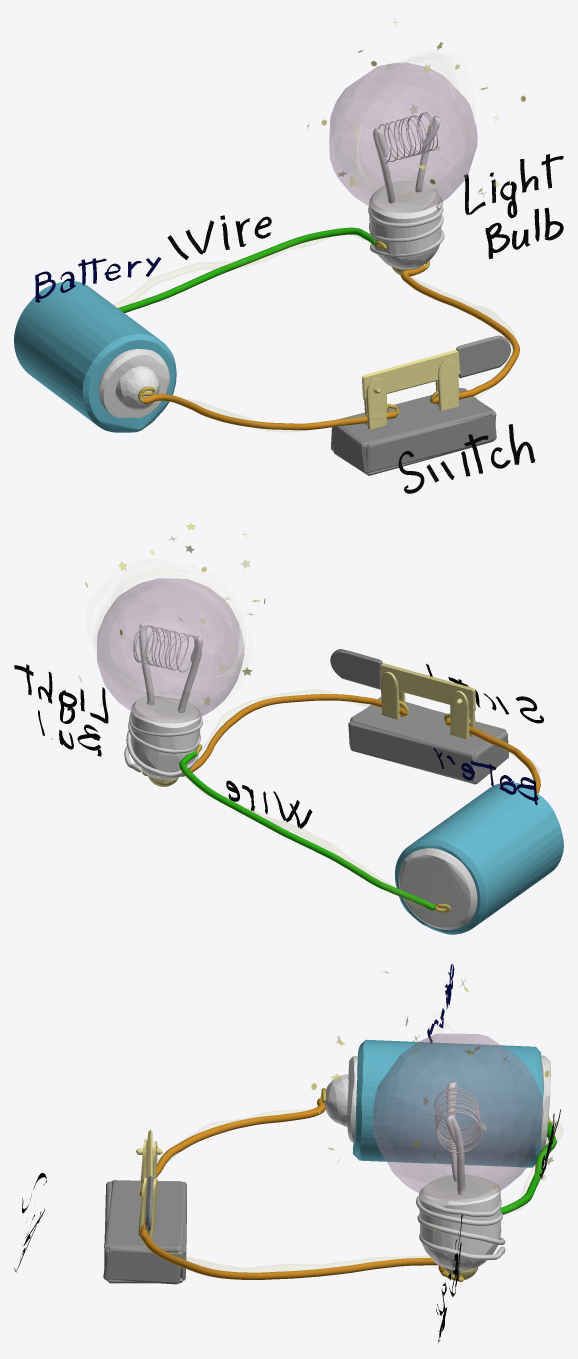
Rendered from fixed_circiut.glb.
3 renders of one model, top to bottom at view 1: azimuth 30°, elevation 25°; view 2: azimuth 150°, elevation 25°; view 3: azimuth 270°, elevation 25°, orthographic. The views are drawn at different scales.
Parts seen in each view (by area): view 1: brush_MatteHull_g0_b0_0, brush_DiamondHull_g1_b0_8, brush_Icing_g0_b0_3, brush_MatteHull_g1_b0_9, brush_Icing_g1_b0_10, brush_Flat_g3_b0_14, brush_NeonPulse_g0_b0_6, brush_Flat_g2_b0_12, brush_Flat_g5_b0_18, brush_Flat_g4_b0_16; view 2: brush_MatteHull_g0_b0_0, brush_DiamondHull_g1_b0_8, brush_Icing_g0_b0_3, brush_MatteHull_g1_b0_9, brush_Icing_g1_b0_10, brush_NeonPulse_g0_b0_6, brush_Flat_g3_b0_14, brush_Flat_g5_b0_18, brush_Flat_g4_b0_16, brush_Flat_g2_b0_12; view 3: brush_MatteHull_g0_b0_0, brush_DiamondHull_g1_b0_8, brush_MatteHull_g1_b0_9, brush_Icing_g0_b0_3, brush_Icing_g1_b0_10, brush_NeonPulse_g0_b0_6, brush_Stars_g0_b0_5, brush_Flat_g3_b0_14.
Part boxes in pixels (x1,y1,x2,y2): brush_MatteHull_g0_b0_0: [14, 281, 510, 475]; brush_DiamondHull_g1_b0_8: [329, 62, 477, 212]; brush_Icing_g0_b0_3: [118, 227, 519, 430]; brush_MatteHull_g1_b0_9: [369, 181, 441, 276]; brush_Icing_g1_b0_10: [368, 112, 444, 256]; brush_Flat_g3_b0_14: [464, 154, 563, 258]; brush_NeonPulse_g0_b0_6: [114, 228, 515, 431]; brush_Flat_g2_b0_12: [398, 424, 535, 493]; brush_Flat_g5_b0_18: [35, 257, 160, 302]; brush_Flat_g4_b0_16: [167, 215, 271, 259]; brush_MatteHull_g0_b0_0: [330, 649, 563, 934]; brush_DiamondHull_g1_b0_8: [97, 578, 244, 723]; brush_Icing_g0_b0_3: [142, 694, 540, 912]; brush_MatteHull_g1_b0_9: [131, 696, 201, 786]; brush_Icing_g1_b0_10: [124, 624, 202, 776]; brush_NeonPulse_g0_b0_6: [182, 690, 539, 908]; brush_Flat_g3_b0_14: [14, 664, 108, 756]; brush_Flat_g5_b0_18: [433, 748, 538, 805]; brush_Flat_g4_b0_16: [226, 780, 312, 828]; brush_Flat_g2_b0_12: [426, 663, 543, 723]; brush_MatteHull_g0_b0_0: [103, 1039, 550, 1284]; brush_DiamondHull_g1_b0_8: [372, 1033, 543, 1202]; brush_MatteHull_g1_b0_9: [419, 1174, 501, 1279]; brush_Icing_g0_b0_3: [136, 1088, 556, 1281]; brush_Icing_g1_b0_10: [416, 1081, 505, 1260]; brush_NeonPulse_g0_b0_6: [138, 1099, 563, 1279]; brush_Stars_g0_b0_5: [311, 971, 553, 1234]; brush_Flat_g3_b0_14: [436, 1215, 462, 1342].
Bounding box in the file's own units: 0.89 × 0.499 × 0.7006.
8 materials, 3 textured.
